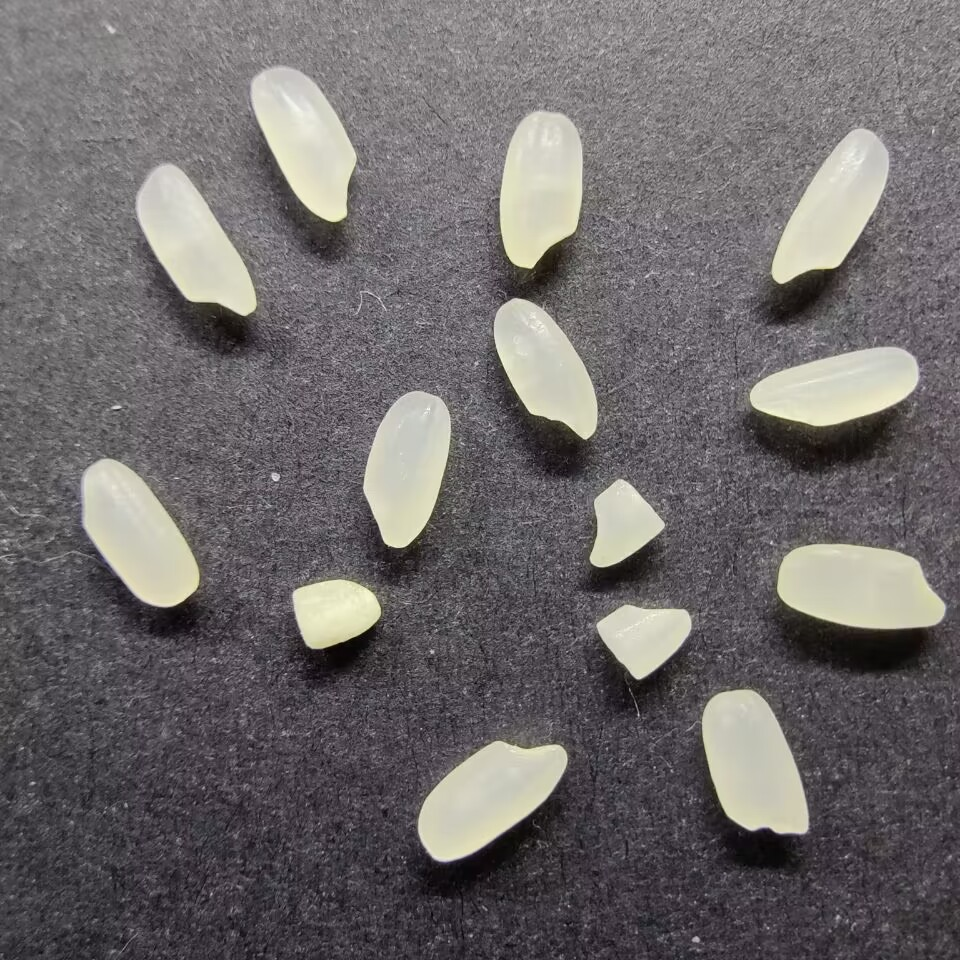broken: (594, 602, 693, 684), (587, 477, 666, 567), (289, 579, 382, 650)
rice: (767, 126, 891, 284), (132, 162, 256, 319), (415, 738, 568, 864), (79, 456, 199, 608), (248, 65, 361, 222), (700, 689, 811, 836), (491, 296, 598, 439), (774, 541, 947, 629), (747, 345, 920, 429), (360, 389, 450, 548), (497, 109, 582, 270)
